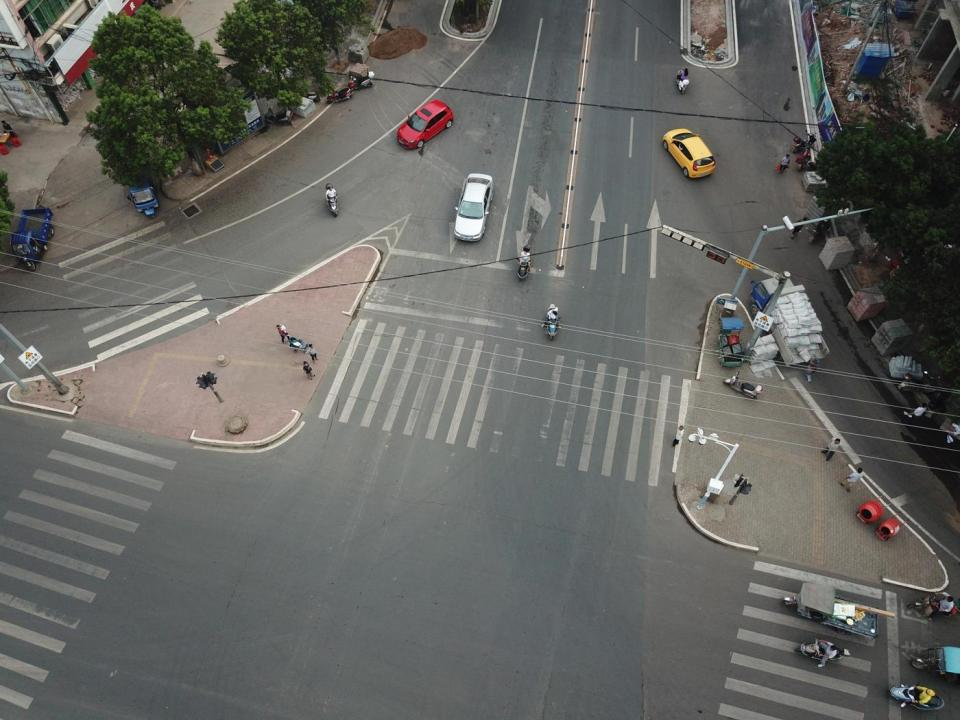car: (395, 99, 453, 149), (454, 172, 494, 241), (662, 128, 715, 179)
truck: (751, 274, 829, 366)
